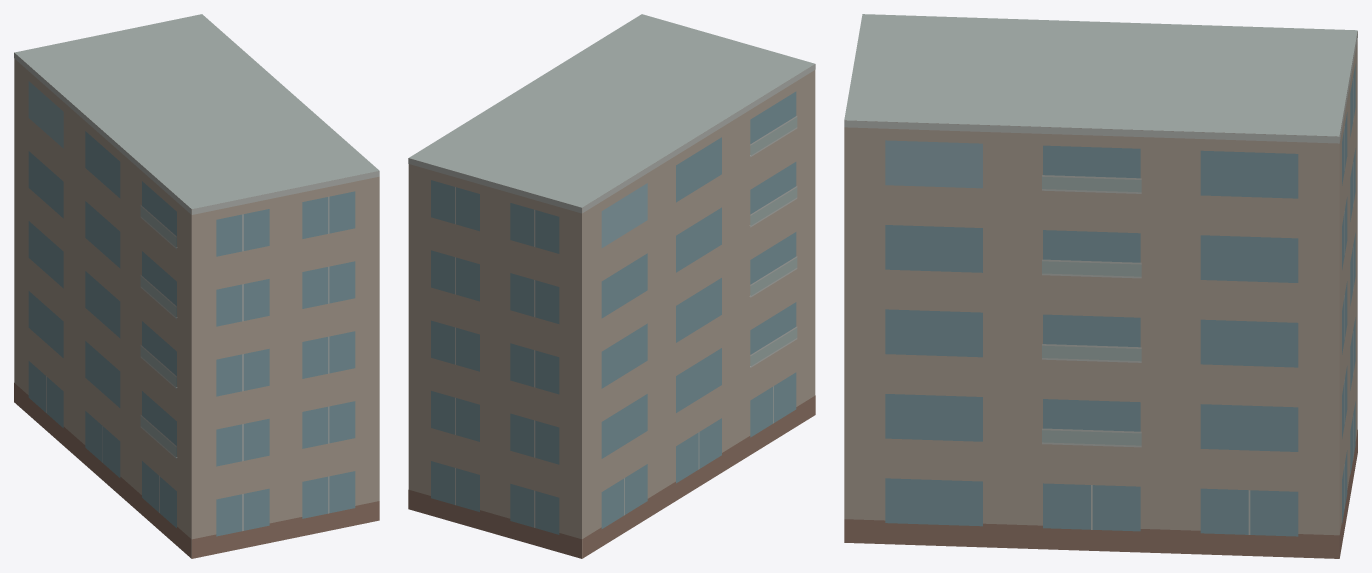
The model's file is survey-upis-32909790.glb.
The picture shows the model from 3 angles, left to right: view 1: azimuth 30°, elevation 25°; view 2: azimuth 150°, elevation 25°; view 3: azimuth 270°, elevation 25°; orthographic projection. The views are drawn at different scales.
Visible parts, largest first — view 1: survey-upis-32909790.tmp; view 2: survey-upis-32909790.tmp; view 3: survey-upis-32909790.tmp.
Boxes of the visible parts, <box> form: survey-upis-32909790.tmp: <box>14,14,379,558</box>; survey-upis-32909790.tmp: <box>408,14,815,558</box>; survey-upis-32909790.tmp: <box>844,14,1357,558</box>.
Size of the model in its own units: 9.15 by 14.7 by 16.21.
